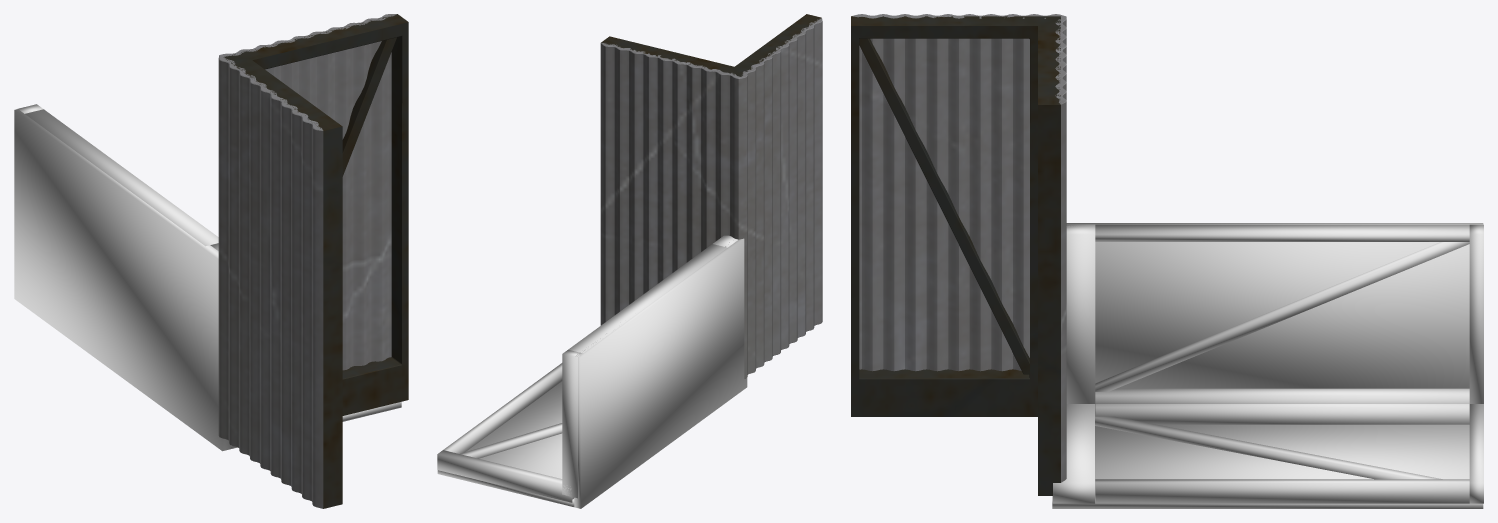
The model's file is SM_Wall_Corner.fbx.
3 renders of one model, left to right at view 1: azimuth 30°, elevation 25°; view 2: azimuth 150°, elevation 25°; view 3: azimuth 270°, elevation 25°, orthographic. The views are drawn at different scales.
Visible parts, largest first — view 1: SM_Wall_Corner, SM_Wall_Corner_ConvexHulls; view 2: SM_Wall_Corner, SM_Wall_Corner_ConvexHulls; view 3: SM_Wall_Corner_ConvexHulls, SM_Wall_Corner.
Boxes of the visible parts, box(x1,y1,x2,y2) form: SM_Wall_Corner: box(218, 14, 408, 508); SM_Wall_Corner_ConvexHulls: box(14, 104, 401, 451); SM_Wall_Corner: box(600, 14, 822, 378); SM_Wall_Corner_ConvexHulls: box(437, 235, 747, 508); SM_Wall_Corner_ConvexHulls: box(1052, 223, 1483, 508); SM_Wall_Corner: box(851, 14, 1066, 495).
Size of the model in its own units: 1.5 by 3.1 by 4.4.
